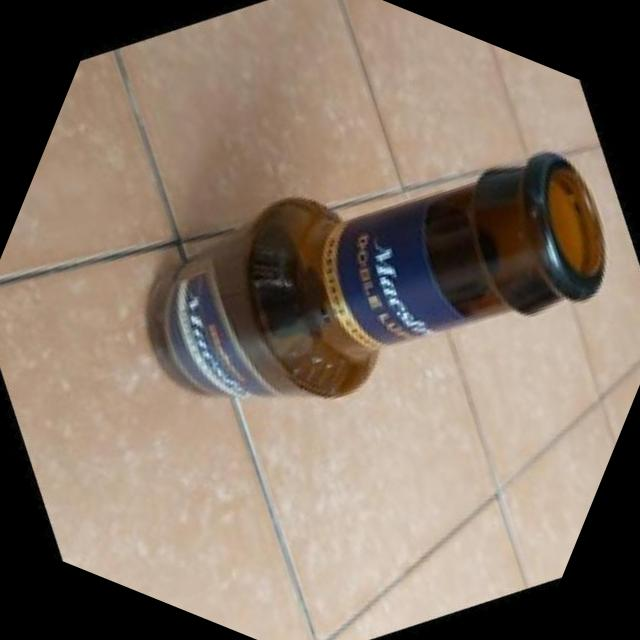BotolKaca: (121, 32, 640, 524)
